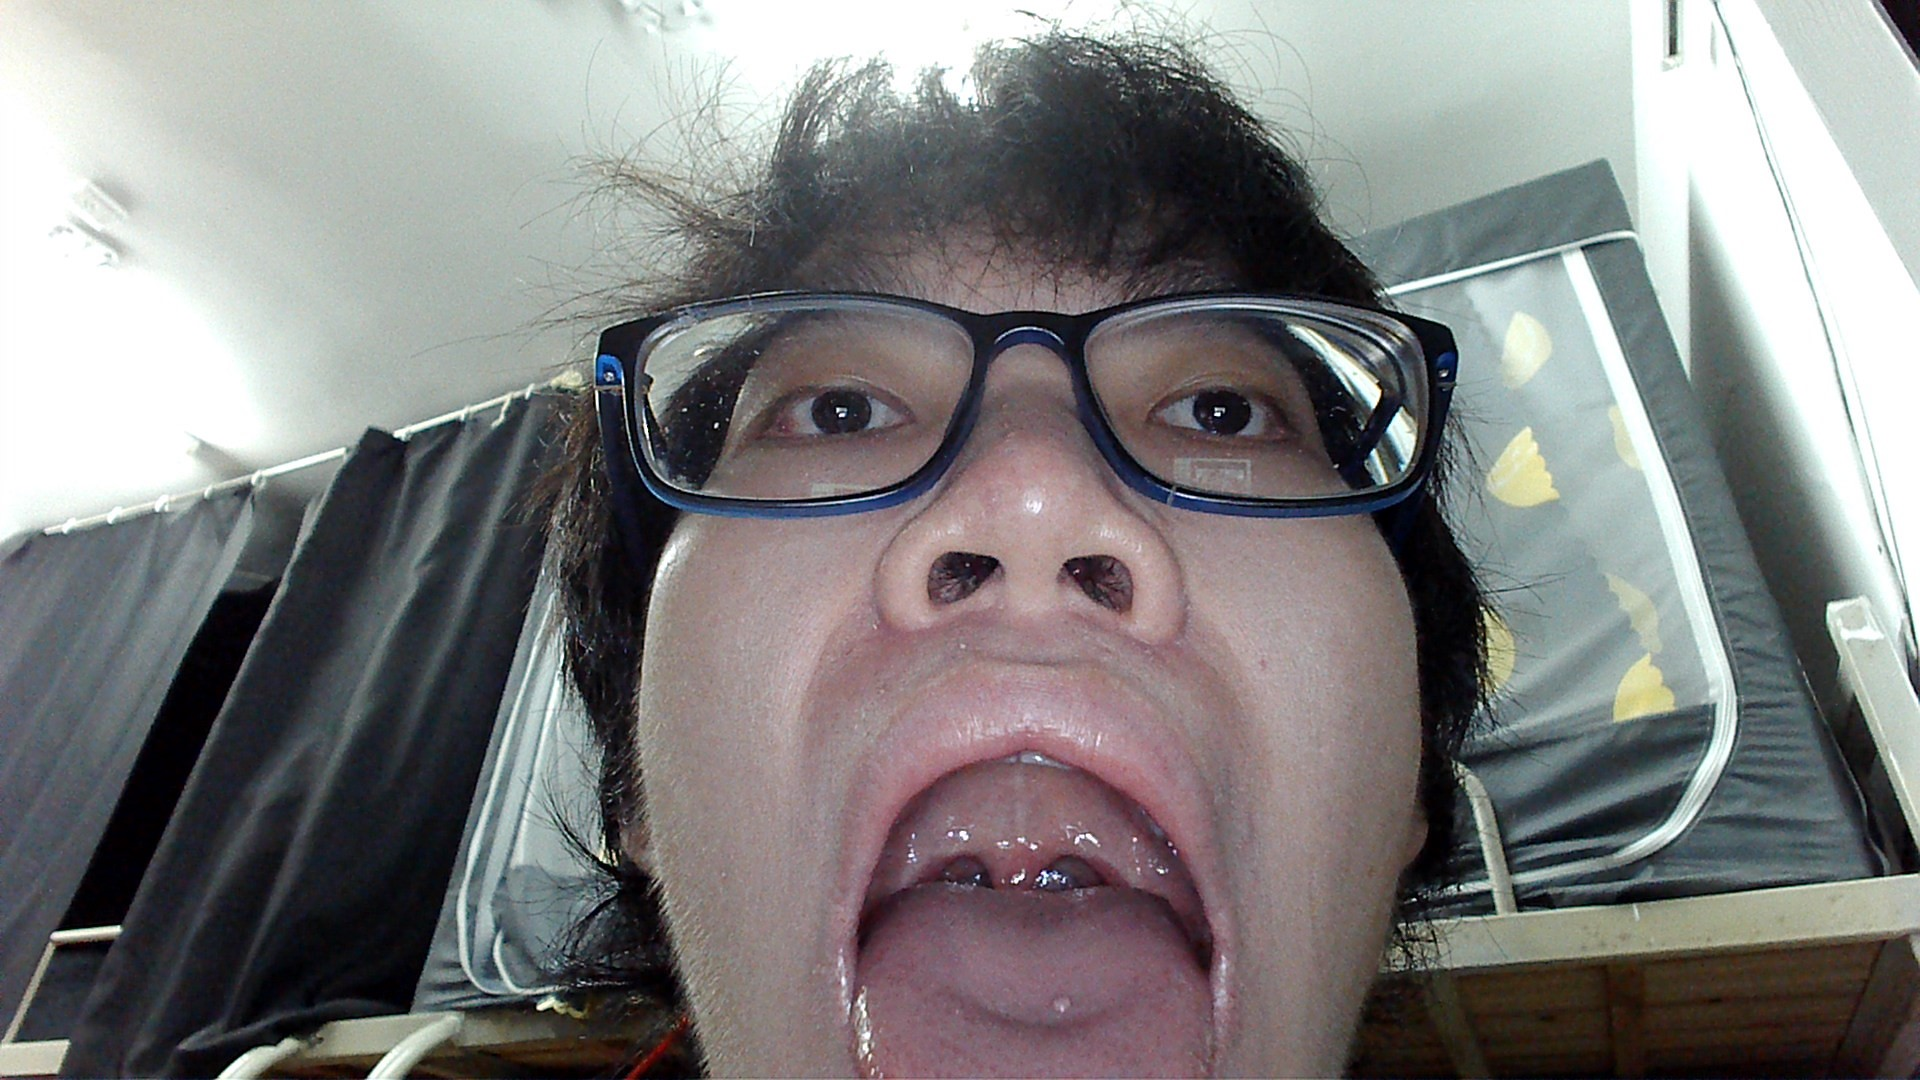throat: (1077, 800, 1126, 887), (914, 816, 971, 880)
